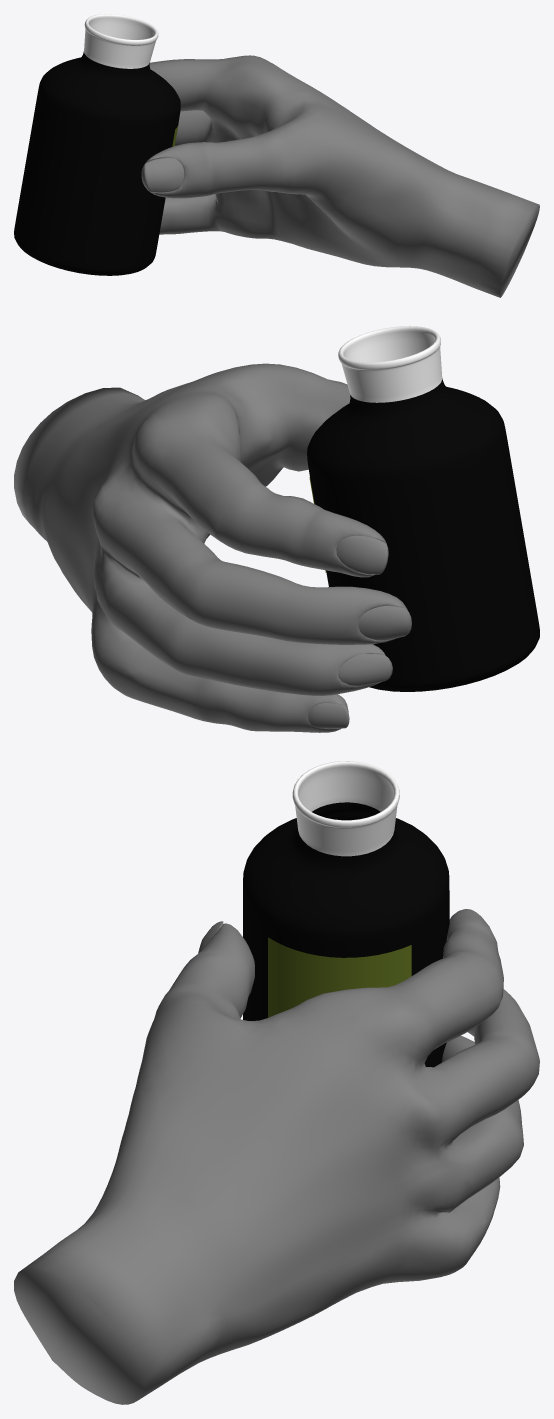
Rendered from 拿着试剂瓶.fbx.
3 renders of one model, top to bottom at view 1: azimuth 30°, elevation 25°; view 2: azimuth 150°, elevation 25°; view 3: azimuth 270°, elevation 25°, orthographic. The views are drawn at different scales.
Parts seen in each view (by area): view 1: blMilWom_v4_67619_Shape184, SY_jiqiping041; view 2: blMilWom_v4_67619_Shape184, SY_jiqiping041; view 3: blMilWom_v4_67619_Shape184, SY_jiqiping041, 对象5279.
Boxes of the visible parts, x1,y1,x2,y2 form: blMilWom_v4_67619_Shape184: (141, 55, 539, 297); SY_jiqiping041: (14, 14, 180, 275); blMilWom_v4_67619_Shape184: (14, 363, 411, 732); SY_jiqiping041: (307, 326, 539, 691); blMilWom_v4_67619_Shape184: (14, 909, 539, 1404); SY_jiqiping041: (243, 761, 449, 1067); 对象5279: (268, 937, 411, 1017).
Size of the model in its own units: 17.07 by 10.51 by 12.3.
